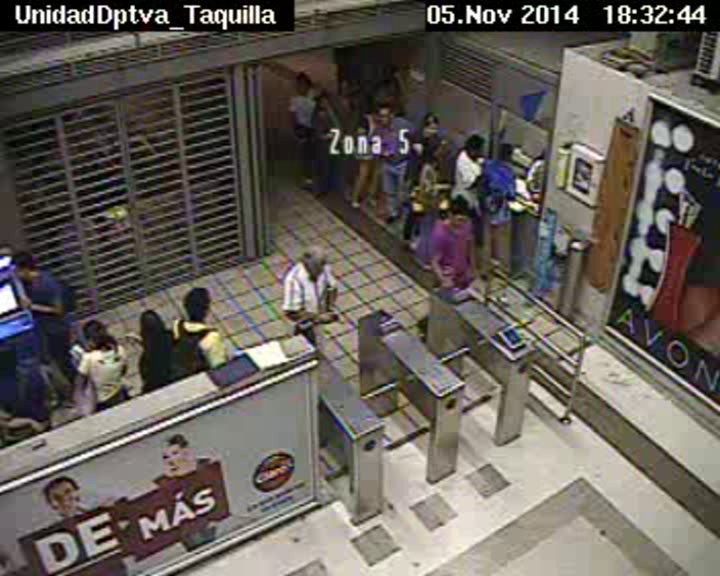person: (182, 286, 214, 324), (81, 320, 111, 348), (446, 195, 473, 226), (135, 308, 164, 336), (302, 246, 329, 276), (9, 251, 37, 279), (1, 340, 28, 368), (464, 134, 486, 158), (294, 72, 315, 95), (421, 112, 441, 136), (376, 104, 396, 127), (496, 141, 516, 162), (421, 142, 440, 162), (386, 64, 404, 85), (315, 91, 333, 110), (369, 98, 385, 117), (337, 79, 354, 96)
